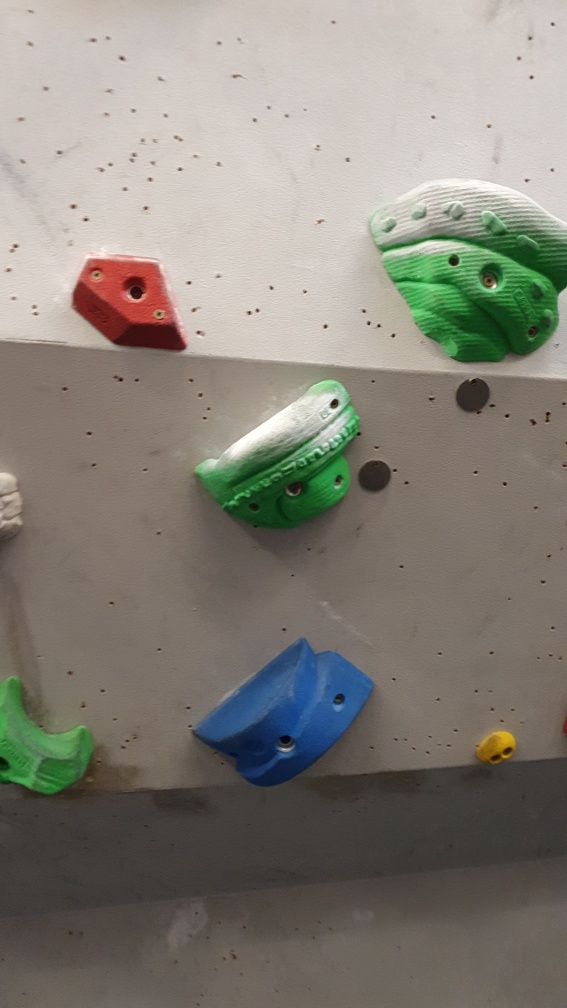Crimp: (66, 248, 194, 356)
Hand Start: (355, 446, 395, 497), (452, 372, 496, 414)
Jug: (364, 173, 567, 370), (191, 372, 365, 530), (1, 672, 98, 804)
Pinch: (190, 635, 379, 790)
